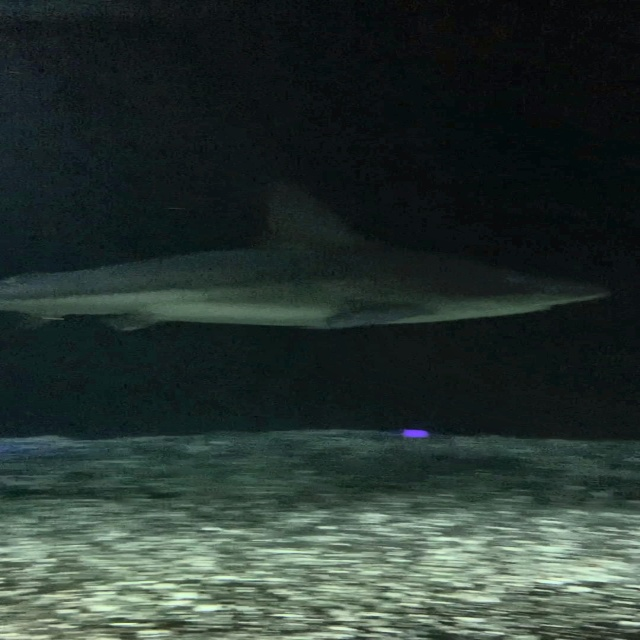shark: (0, 184, 612, 330)
